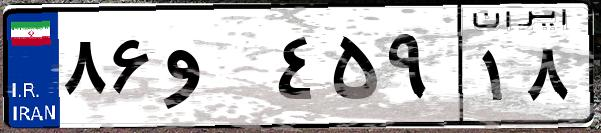1: (475, 38, 525, 113)
4: (270, 28, 330, 110)
5: (330, 28, 385, 110)
6: (110, 28, 158, 98)
8: (57, 26, 110, 100), (525, 38, 570, 115)
9: (385, 28, 445, 110)
و: (158, 20, 270, 120)
